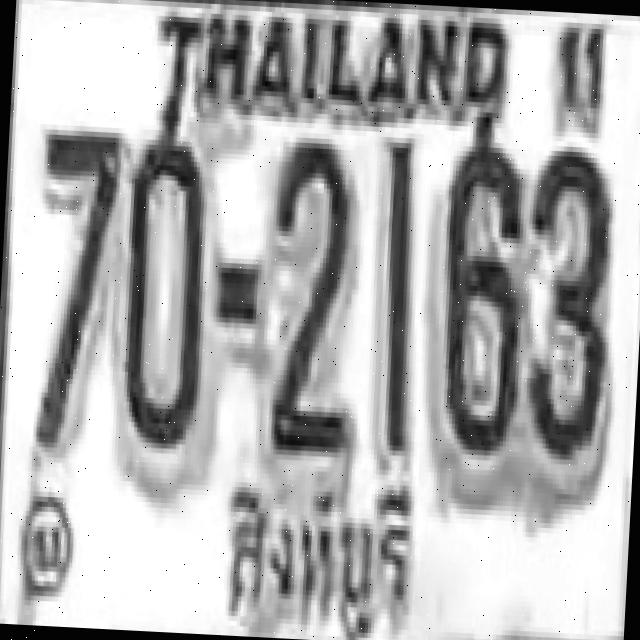0: (116, 129, 212, 460)
1: (370, 137, 420, 461), (370, 137, 420, 456)
2: (262, 139, 362, 455)
3: (520, 146, 618, 457)
6: (430, 133, 530, 454)
7: (27, 124, 122, 455), (31, 124, 122, 361)
SingBuri: (209, 465, 436, 640)
